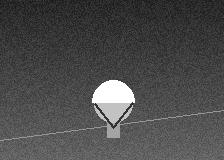helmet: (92, 80, 134, 127)
